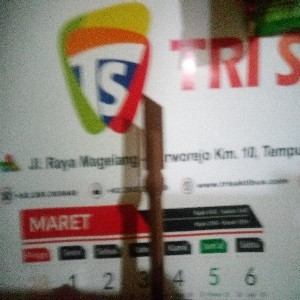cutter: (141, 93, 165, 300)
